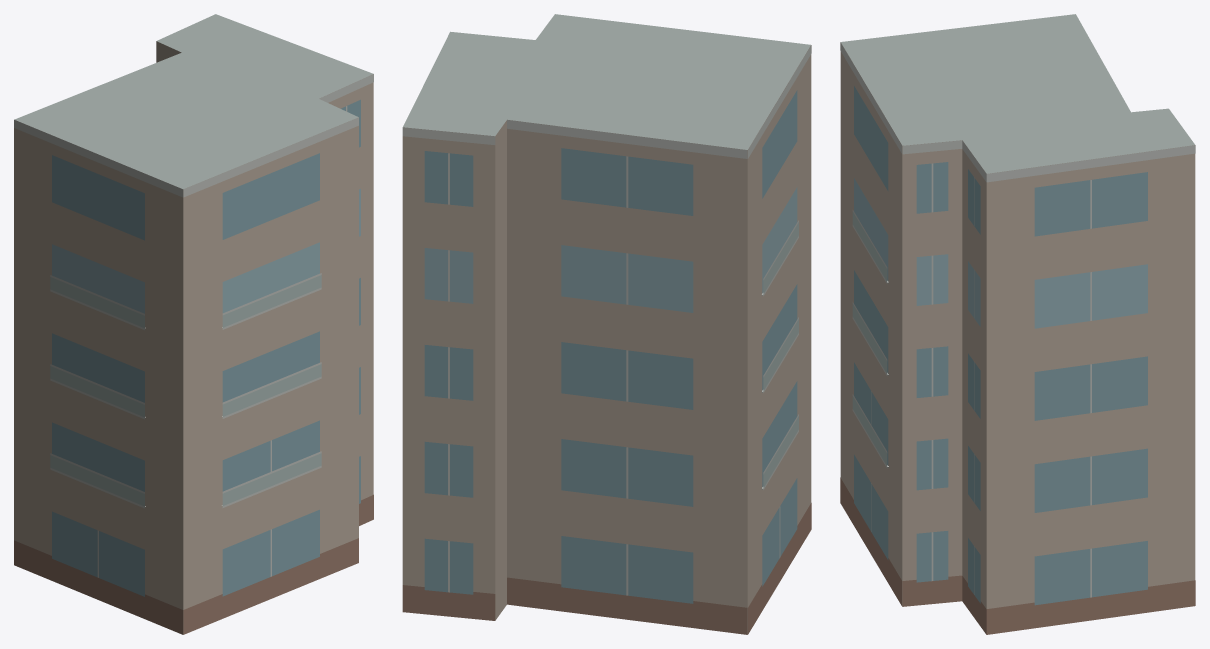
The model's file is survey-upis-32563767.glb.
3 renders of one model, left to right at view 1: azimuth 30°, elevation 25°; view 2: azimuth 150°, elevation 25°; view 3: azimuth 270°, elevation 25°, orthographic. The views are drawn at different scales.
Parts seen in each view (by area): view 1: survey-upis-32563767.tmp; view 2: survey-upis-32563767.tmp; view 3: survey-upis-32563767.tmp.
Boxes of the visible parts, x1,y1,x2,y2 form: survey-upis-32563767.tmp: [14, 14, 373, 634]; survey-upis-32563767.tmp: [402, 14, 811, 634]; survey-upis-32563767.tmp: [840, 14, 1195, 634].
Size of the model in its own units: 9.75 by 13.1 by 9.15.
